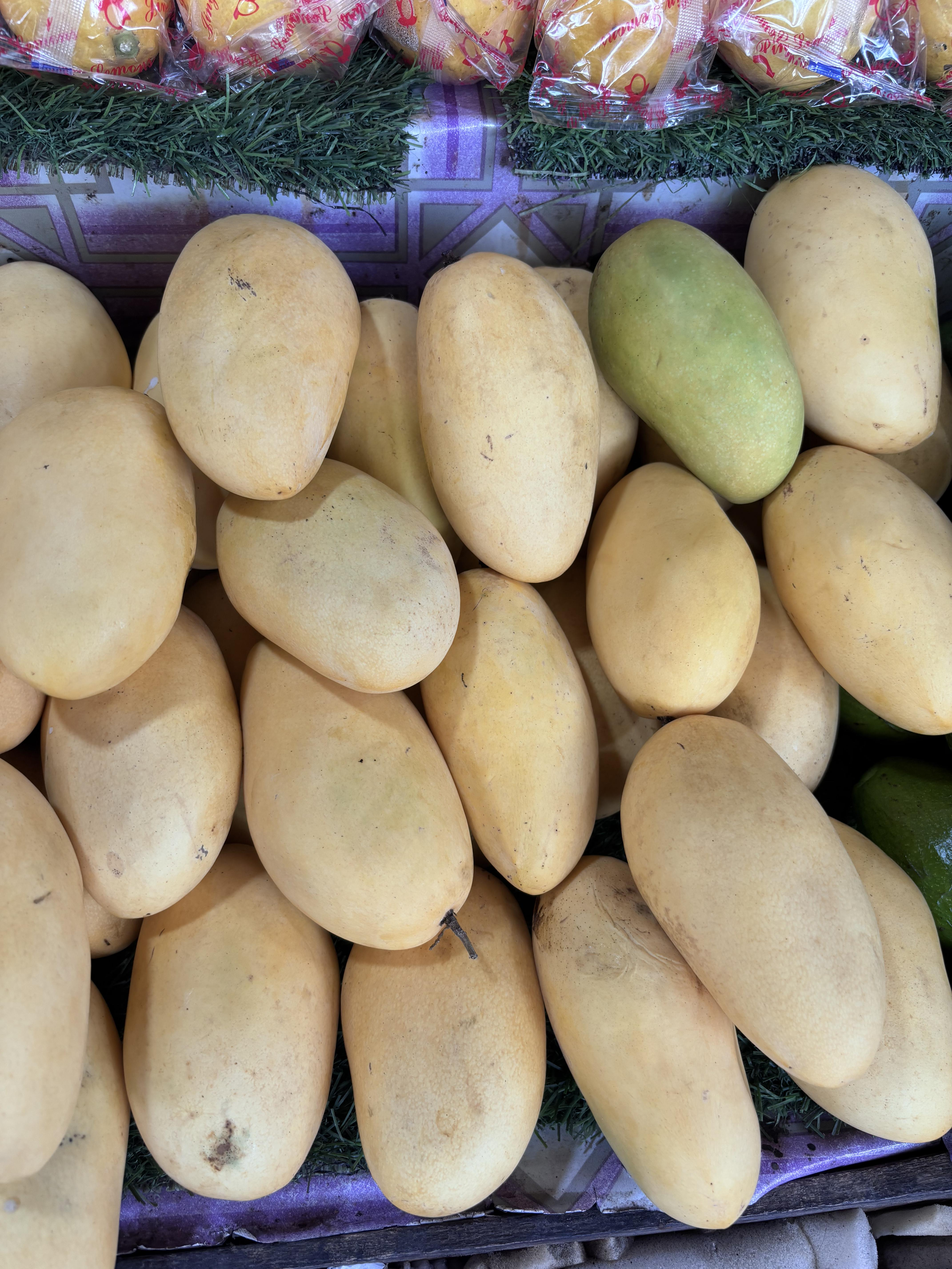mango: (621, 716, 886, 1089), (589, 219, 804, 504), (417, 253, 599, 583), (158, 214, 361, 500), (586, 463, 760, 717)
occluded: (532, 856, 760, 1229), (124, 845, 339, 1200), (241, 640, 478, 960), (341, 869, 546, 1218), (42, 608, 242, 918), (0, 387, 196, 700), (421, 569, 599, 895), (745, 166, 941, 457), (217, 459, 459, 693), (762, 445, 952, 735), (799, 819, 952, 1143), (0, 760, 90, 1182), (0, 986, 129, 1269), (329, 298, 461, 559), (537, 557, 660, 818), (711, 566, 839, 790), (535, 266, 639, 514), (0, 262, 132, 429), (183, 572, 262, 702), (880, 363, 952, 501), (0, 661, 46, 754), (84, 889, 142, 959), (191, 463, 226, 569), (133, 316, 164, 405)
